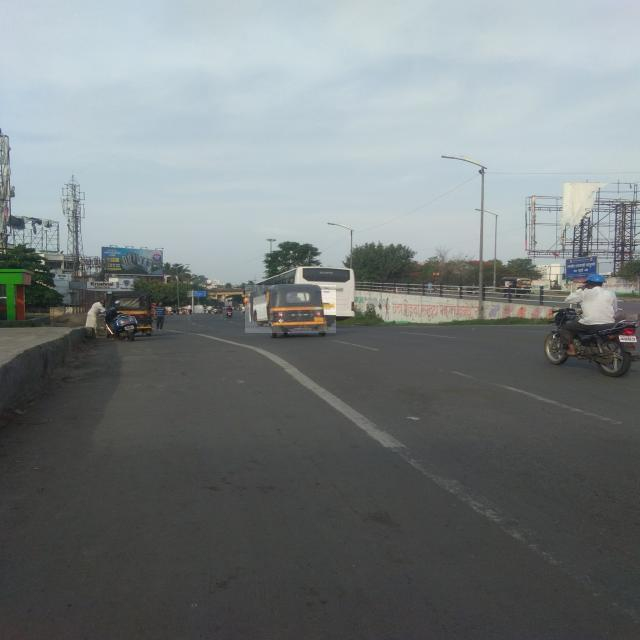Auto: (245, 286, 336, 334)
